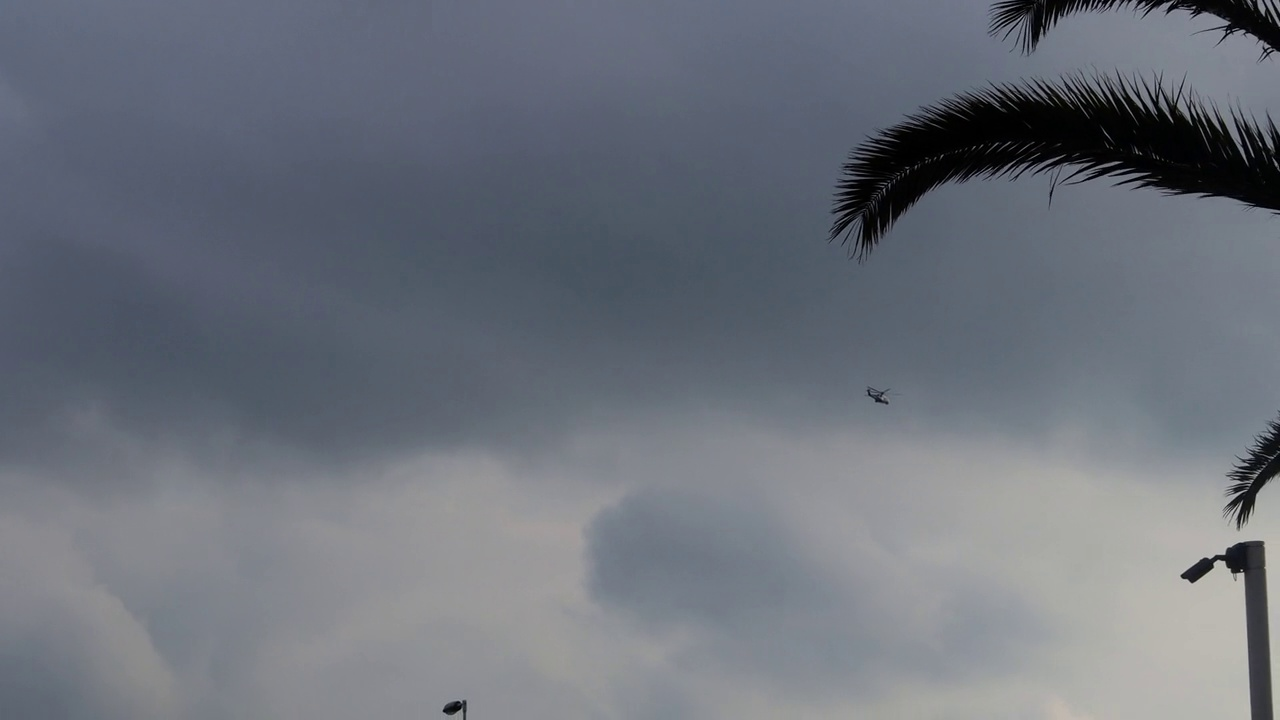heli: (866, 384, 902, 405)
